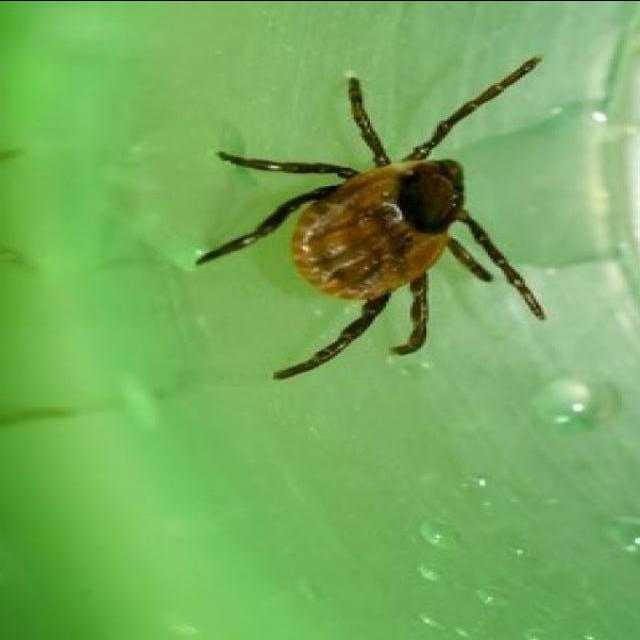Rhipicephalus Sanguineus-F: (193, 53, 544, 380)
